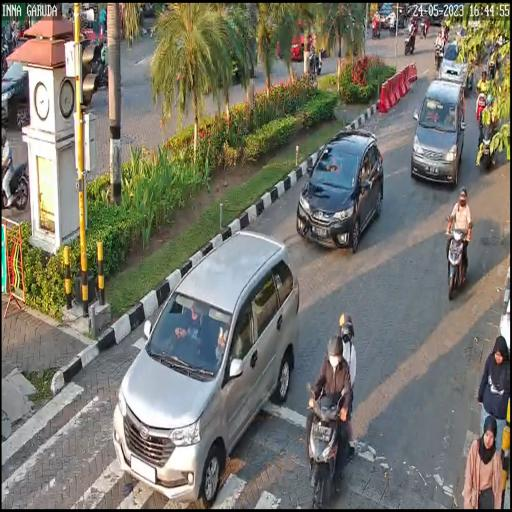mobil: (109, 223, 303, 503), (296, 123, 386, 254), (412, 78, 462, 202)
motor: (301, 372, 361, 496), (441, 208, 470, 300)
